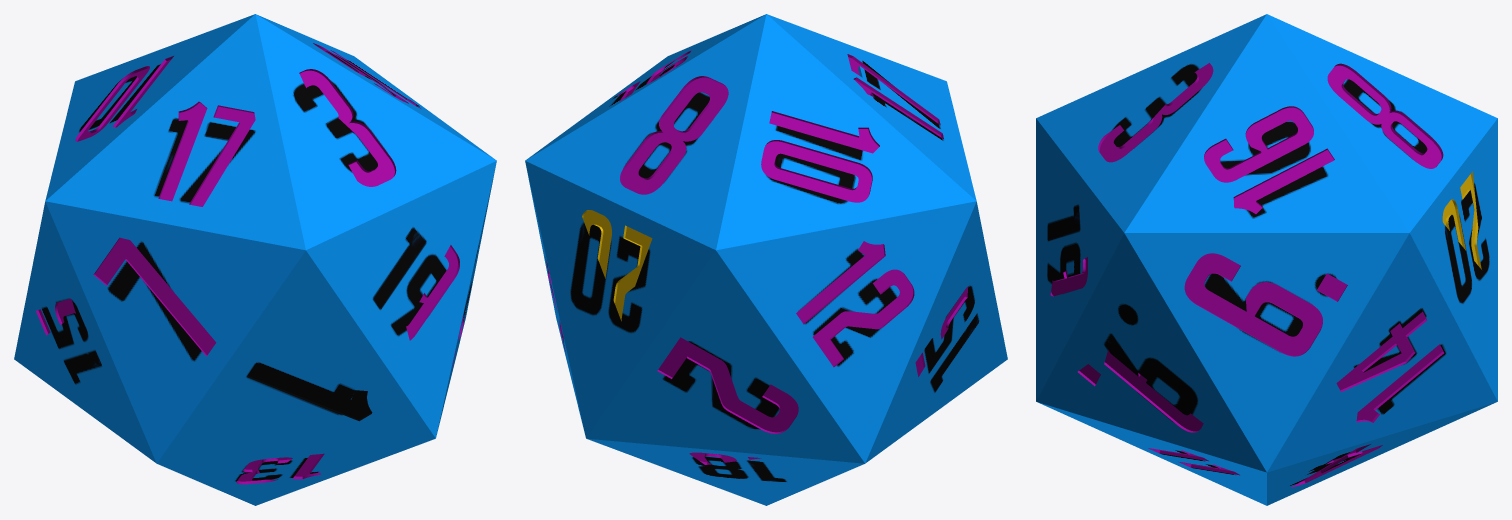
3 renders of one model, left to right at view 1: azimuth 30°, elevation 25°; view 2: azimuth 150°, elevation 25°; view 3: azimuth 270°, elevation 25°, orthographic.
Parts seen in each view (by area): view 1: Dice_d20; view 2: Dice_d20; view 3: Dice_d20.
Part boxes in pixels (box(x1,y1,x2,y2)): Dice_d20: box(14, 14, 496, 505); Dice_d20: box(525, 14, 1007, 505); Dice_d20: box(1036, 14, 1497, 505).
Size of the model in its own units: 170 by 190 by 162.
